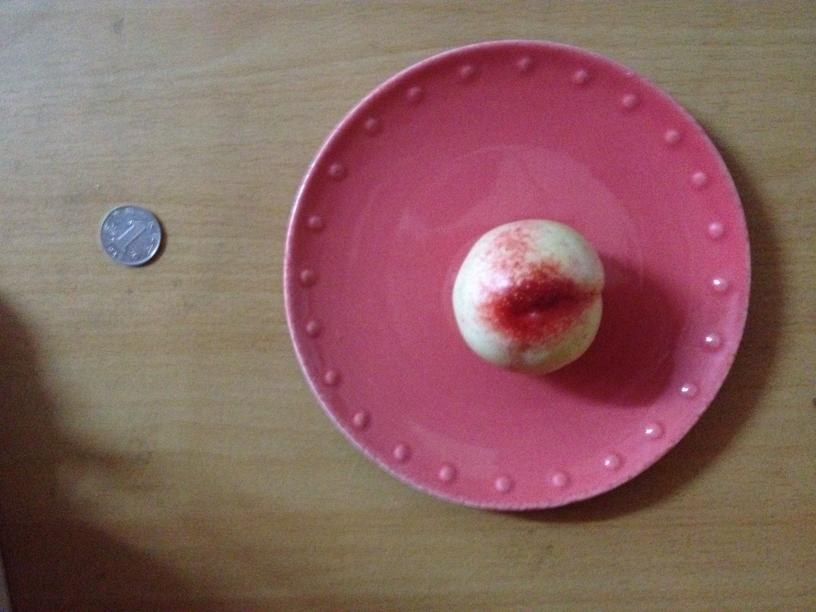coin: (97, 203, 161, 267)
peach: (451, 219, 605, 377)
